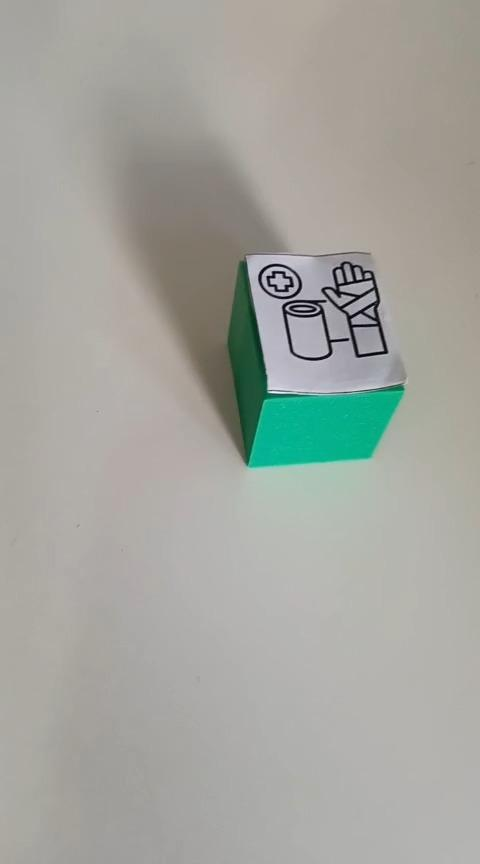Bandages: (226, 250, 407, 468)
